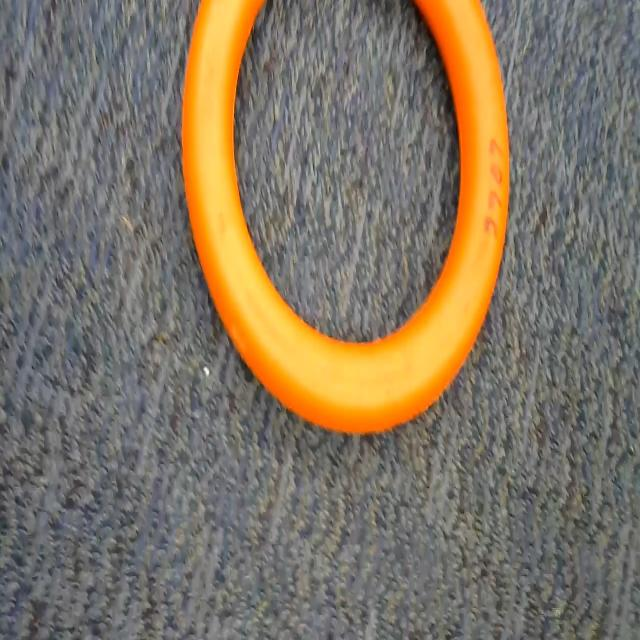note: (169, 0, 521, 442)
